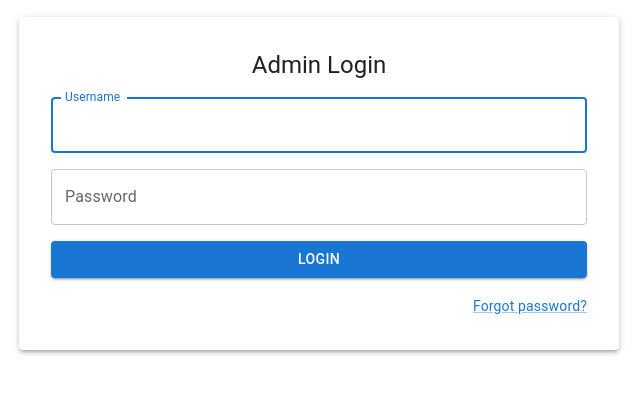
Scenario: AdminLogin Component › handles login error and displays error message
// Fill in the form
In the field labelled "Username": (319, 125) [51, 97, 587, 153], type "wrong"
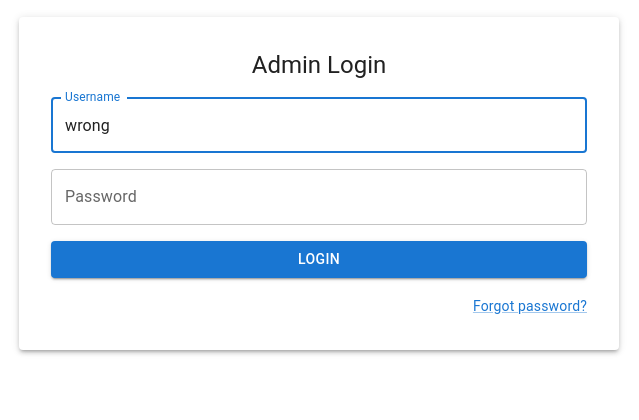
In the password field labelled "Password": (319, 197) [51, 169, 587, 225], type "wrong"
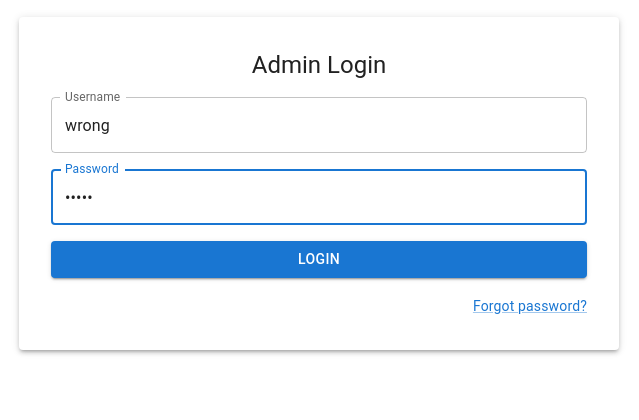
// Submit the form
Click the button "Login": (319, 259) [51, 241, 587, 278]
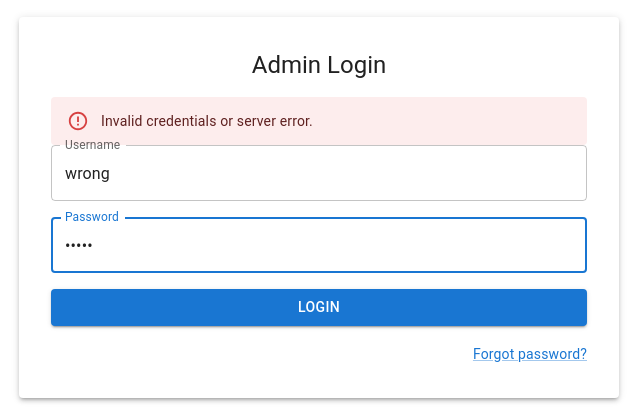
Expected: the text "Invalid credentials or server error." is shown, [101, 113, 313, 129]
